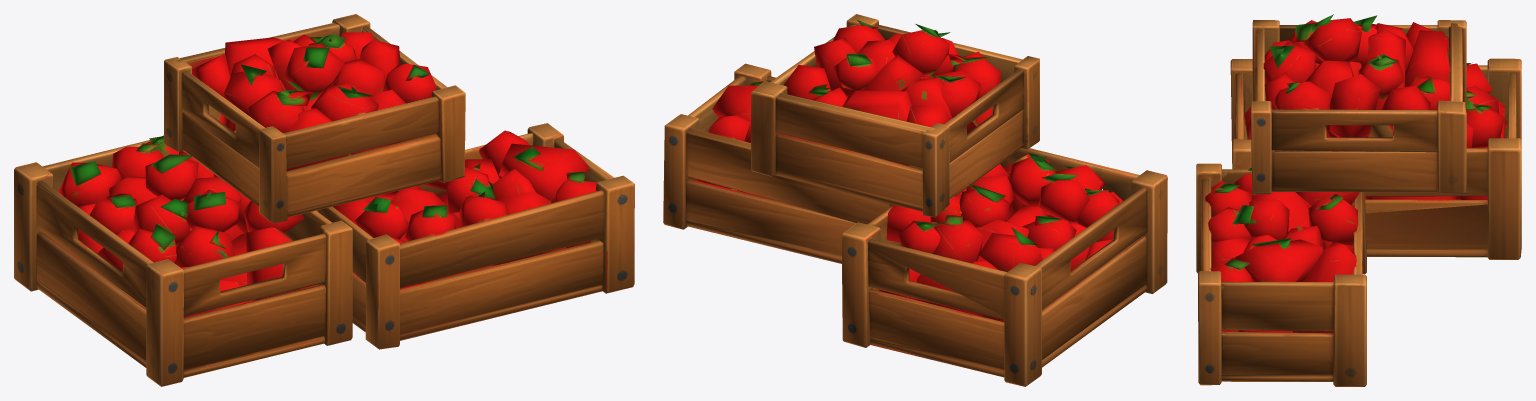
The model's file is obstacle_crates.glb.
3 renders of one model, left to right at view 1: azimuth 30°, elevation 25°; view 2: azimuth 150°, elevation 25°; view 3: azimuth 270°, elevation 25°, orthographic. The views are drawn at different scales.
Size of the model in its own units: 0.9507 by 0.5059 by 0.5977.
Materials: 1 (1 with a texture image).
